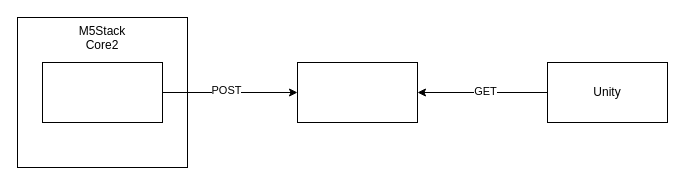
The diagram is 685 pixels wide and 185 high, and some of its shapes have lost their labels. The shapes that lost their labels are listed below. From the top down, each one's centre as x and y in pixels, then its label:
the point at 102,92: IoTEdge
the point at 357,92: API
